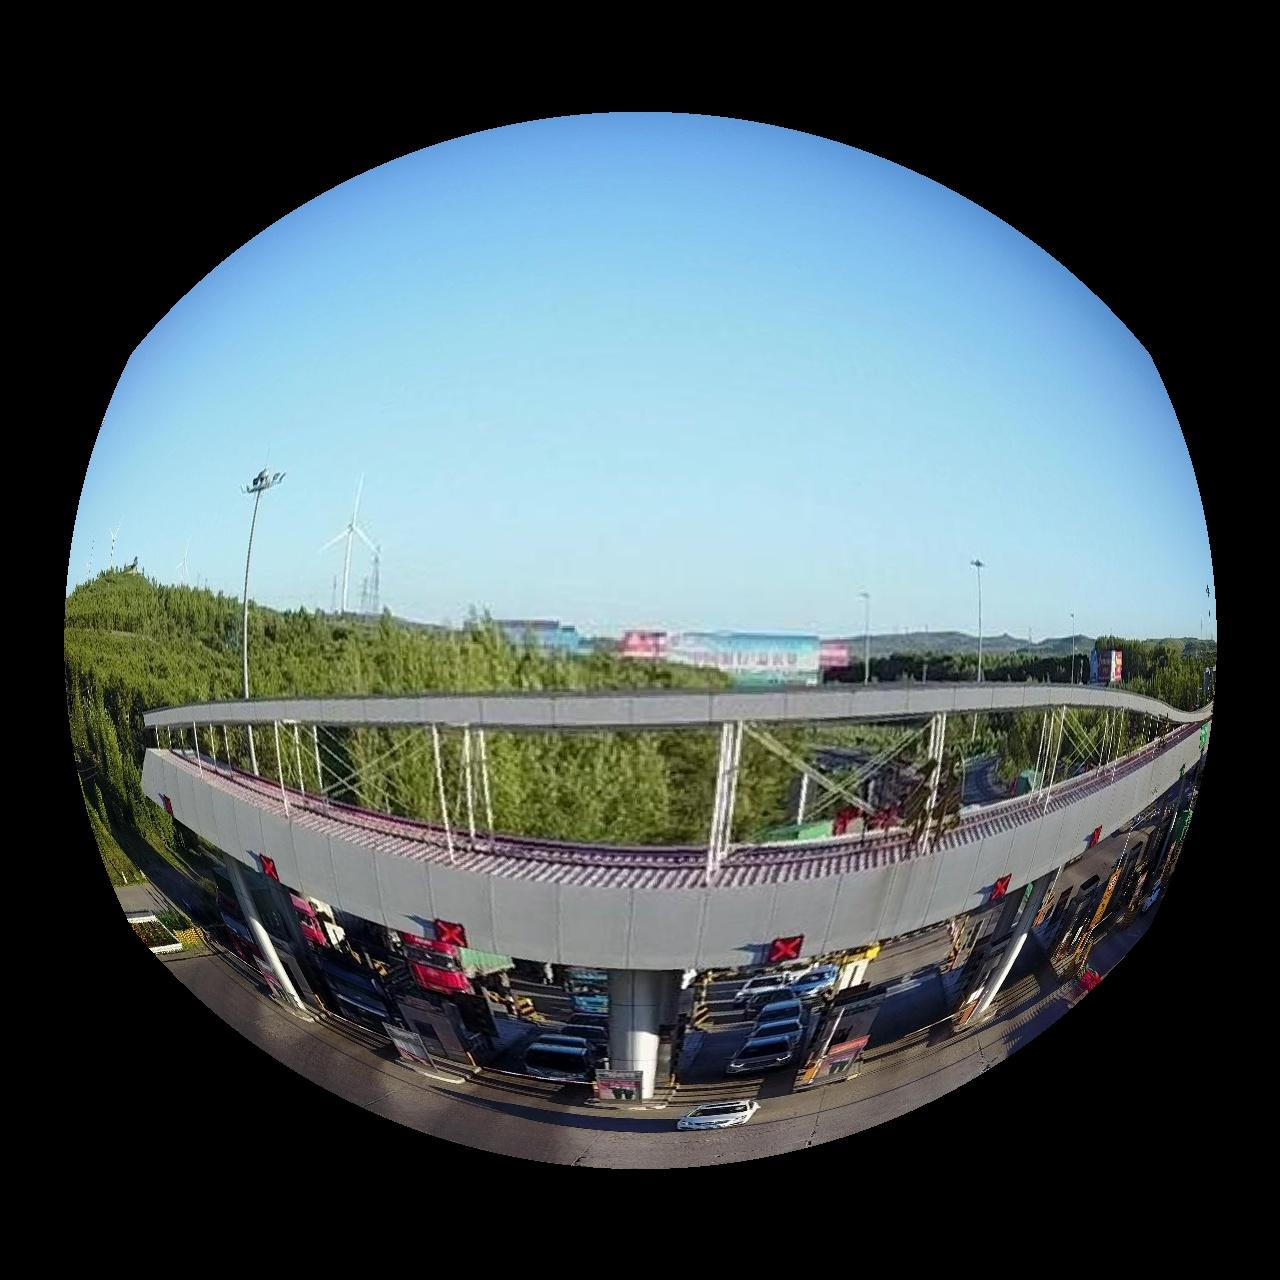building: (140, 684, 1211, 1110)
cars: (677, 1102, 761, 1134)
trees: (65, 567, 721, 866), (248, 603, 730, 698), (870, 630, 1216, 710), (820, 622, 867, 686)
